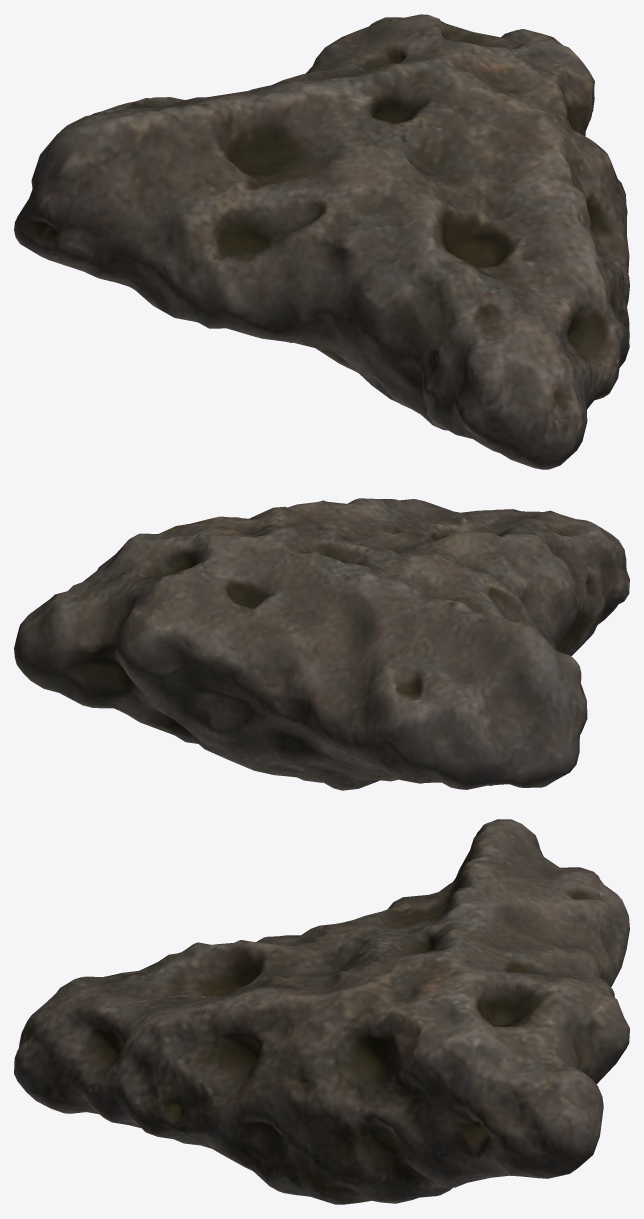
Rendered from asteroid_uncommon_3_lod2.glb.
3 renders of one model, top to bottom at view 1: azimuth 30°, elevation 25°; view 2: azimuth 150°, elevation 25°; view 3: azimuth 270°, elevation 25°, orthographic. The views are drawn at different scales.
Visible parts, largest first — view 1: model; view 2: model; view 3: model.
Part boxes in pixels (left/top/right/bottom): model: left=14, top=14, right=629, bottom=469; model: left=14, top=498, right=629, bottom=790; model: left=14, top=819, right=629, bottom=1204.
Size of the model in its own units: 1.86 by 0.805 by 1.89.
1 material, 1 textured.
